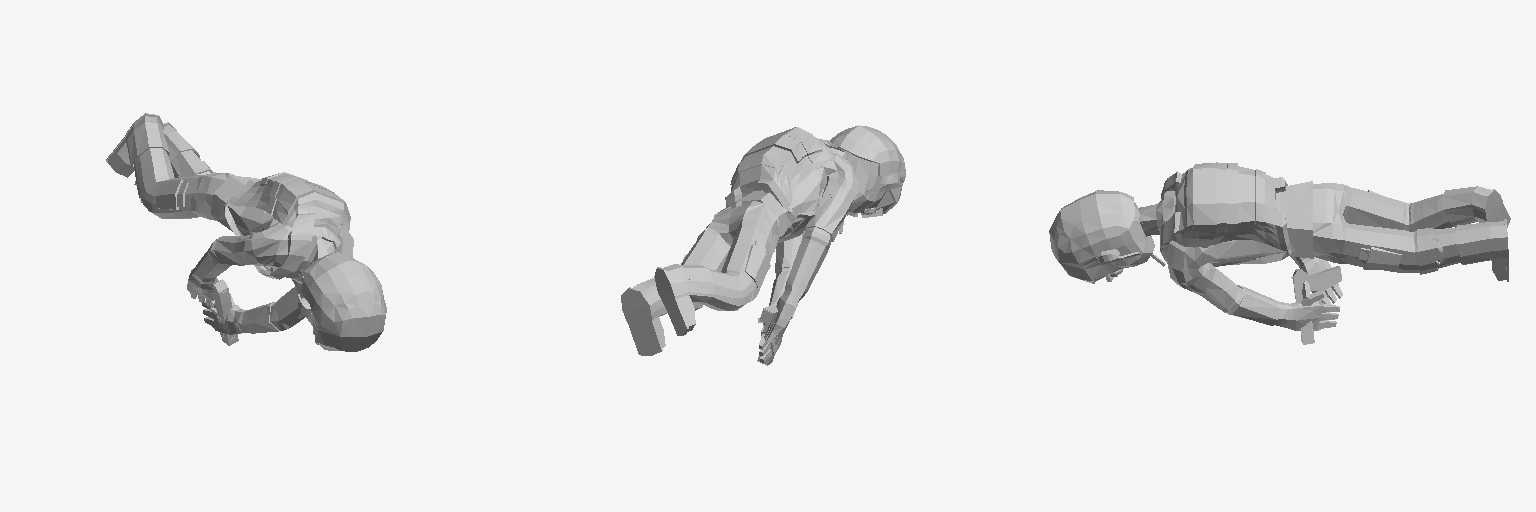
File: frame_0046.obj
The picture shows the model from 3 angles: view 1: azimuth 30°, elevation 25°; view 2: azimuth 150°, elevation 25°; view 3: azimuth 270°, elevation 25°; orthographic projection.
Visible parts, largest first — view 1: Body, Gun; view 2: Body; view 3: Body, Gun.
Part boxes in pixels (x1,y1,x2,y2): Body: (106,113,386,351); Gun: (191,268,238,345); Body: (621,125,905,362); Body: (1049,162,1510,330); Gun: (1291,266,1341,344).
Size of the model in its own units: 1.13 by 1.89 by 4.18.